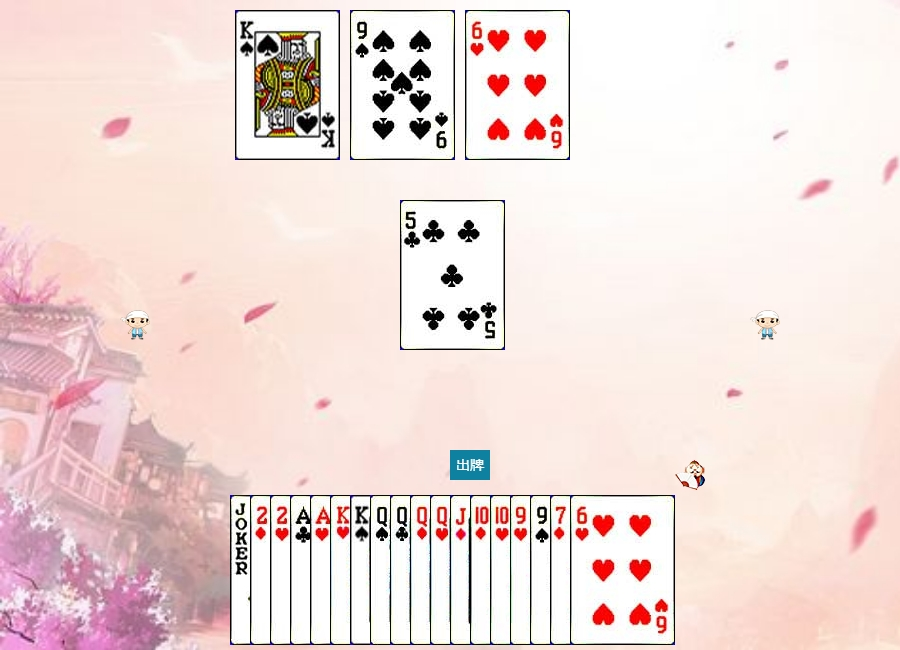10~1: (470, 495, 575, 645)
10~3: (490, 495, 595, 645)
11~1: (450, 495, 555, 645)
12~1: (410, 495, 515, 645)
12~2: (390, 495, 495, 645)
12~3: (430, 495, 535, 645)
12~4: (370, 495, 475, 645)
13~3: (330, 495, 435, 645)
13~4: (235, 10, 340, 160), (350, 495, 455, 645)
14~2: (290, 495, 395, 645)
14~3: (310, 495, 415, 645)
15~1: (250, 495, 355, 645)
15~3: (270, 495, 375, 645)
17~3: (230, 495, 335, 645)
5~2: (400, 200, 505, 350)
6~3: (465, 10, 570, 160), (570, 495, 675, 645)
7~1: (550, 495, 655, 645)
9~3: (510, 495, 615, 645)
9~4: (350, 10, 455, 160), (530, 495, 635, 645)
